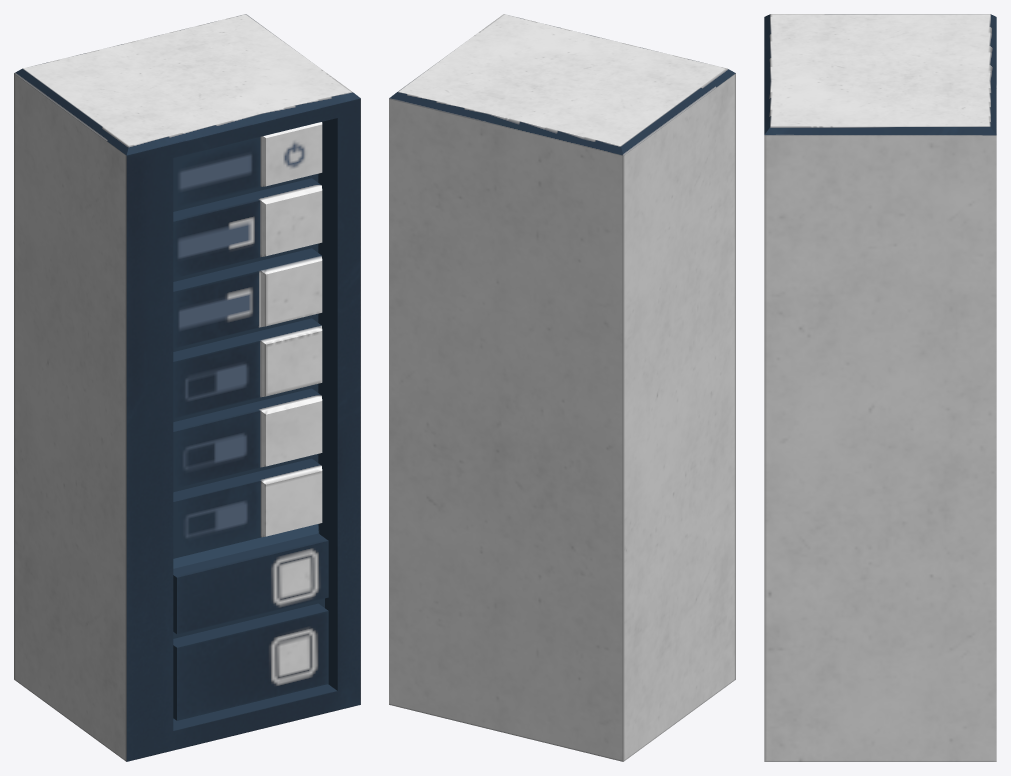
The model's file is Server.glb.
3 renders of one model, left to right at view 1: azimuth 30°, elevation 25°; view 2: azimuth 150°, elevation 25°; view 3: azimuth 270°, elevation 25°, orthographic. The views are drawn at different scales.
Visible parts, largest first — view 1: Server; view 2: Server; view 3: Server.
Part boxes in pixels (x1,y1,x2,y2): Server: (14,14,360,761); Server: (389,14,735,761); Server: (764,14,996,761).
Bounding box in the file's own units: 2.4 × 6 × 2.
1 material, 1 textured.
